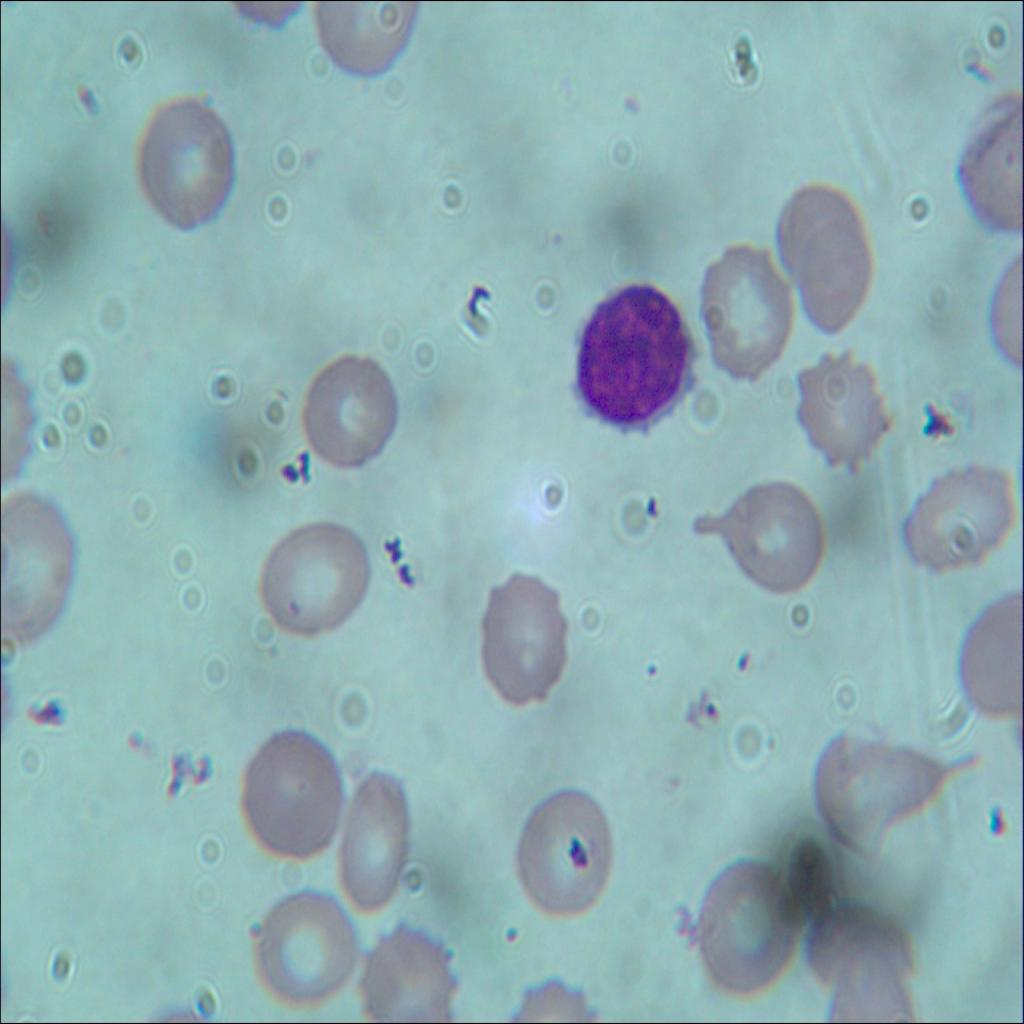Eritrosit: (250, 501, 381, 655), (802, 719, 948, 844), (691, 844, 794, 1010), (506, 772, 612, 930), (138, 94, 243, 247), (235, 722, 348, 858), (481, 559, 575, 719), (694, 239, 790, 384), (246, 884, 358, 1007), (0, 487, 79, 655), (906, 457, 1015, 574), (299, 340, 398, 468), (718, 475, 824, 594), (339, 765, 422, 912), (950, 85, 1024, 238), (355, 914, 453, 1023), (799, 354, 895, 462), (808, 894, 910, 992), (958, 577, 1024, 721), (778, 182, 870, 278), (804, 218, 871, 335), (826, 941, 914, 1023)
Limfoblast: (563, 272, 694, 442)
Platelet: (975, 795, 1021, 852), (69, 74, 115, 122), (634, 479, 668, 524), (629, 648, 663, 684), (698, 688, 728, 725), (735, 642, 762, 675), (569, 831, 586, 871), (620, 82, 638, 115)
